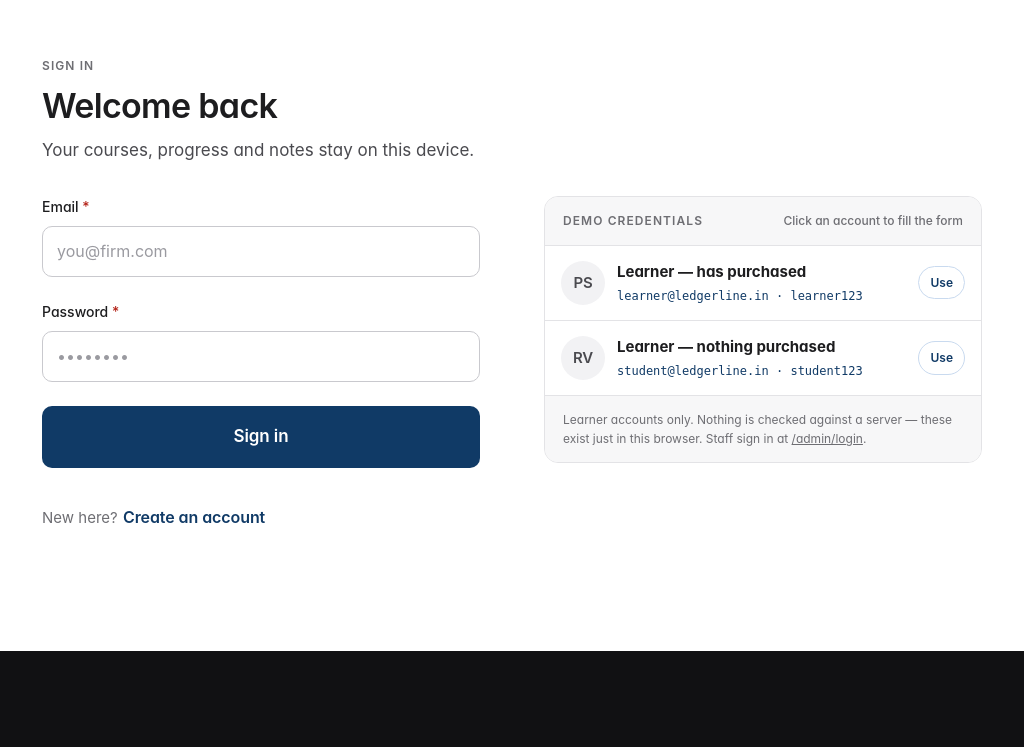
Test: sign-in page › fills email AND password when a credential card is clicked
Check: the text "Demo credentials" is shown, box [563,212,703,231]
Check: the field with placeholder "you@firm.com" is empty, box [42,226,480,277]
Step 1. Click the button "Learner — has purchased" → point(763, 283), box [545,246,981,321]
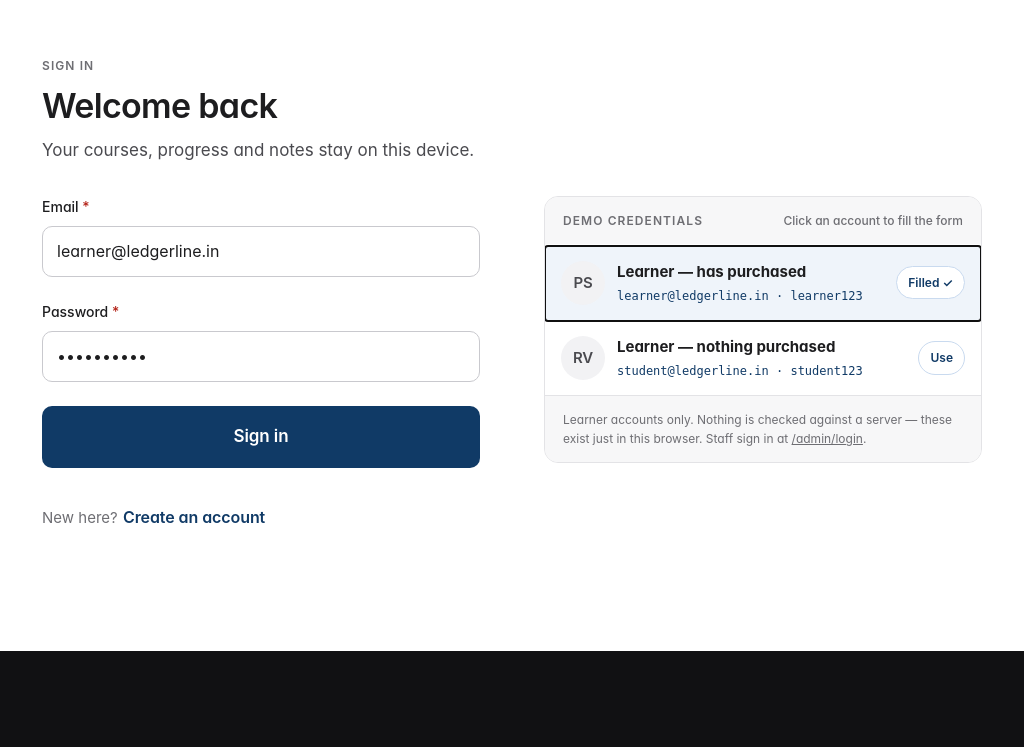
Check: the field with placeholder "you@firm.com" holds "learner@ledgerline.in", box [42,226,480,277]
Check: the password field with placeholder "••••••••" holds "learner123", box [42,331,480,382]
